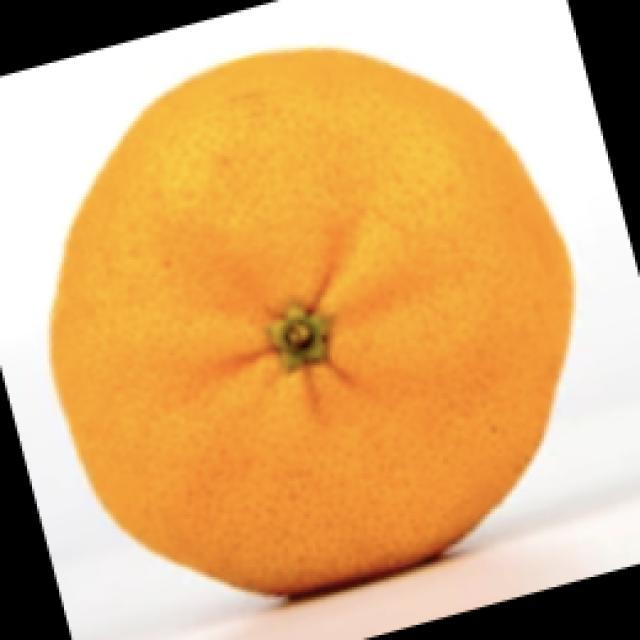Orange: (47, 45, 575, 599)
